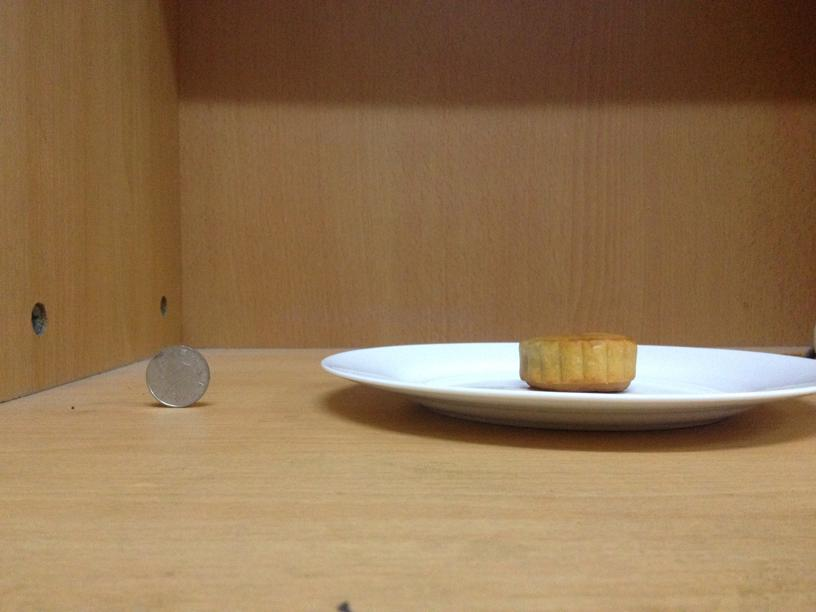coin: (144, 349, 209, 406)
mooncake: (517, 332, 636, 390)
